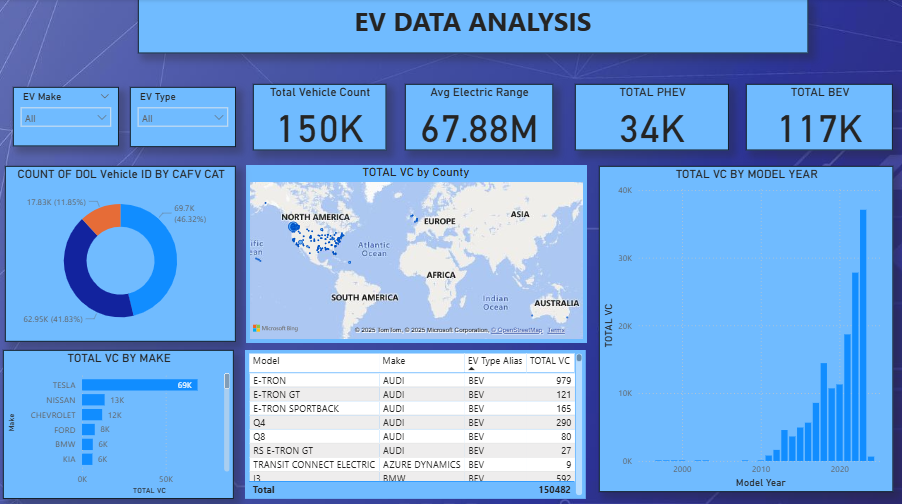

Layout of this report page (visuals, bound fields, positions):
{"tool":"powerbi","page":{"name":"DASHBOARD","canvas":[1280,720],"ordinal":0},"visuals":[{"type":"textbox","box":[198.4,0,949.6,76.5],"z":0},{"type":"card","title":"Total Vehicle Count","fields":{"Values":["Key Measure.TOTAL VC"]},"box":[361.4,120.5,188.5,93.5],"z":1000},{"type":"card","title":"Avg Electric Range","fields":{"Values":["Key Measure.AVG ELECTRIC VEHICLE"]},"box":[576.9,120.5,209.8,93.5],"z":2000},{"type":"map","fields":{"Category":["EV.County"],"Size":["Key Measure.TOTAL VC"]},"box":[351.5,235.3,481.9,250.9],"z":3000},{"type":"slicer","fields":{"Values":["EV.Make"]},"box":[21.3,124.7,150.2,83.6],"z":4000},{"type":"slicer","fields":{"Values":["EV.EV Type Alias"]},"box":[187.1,124.7,150.2,85],"z":5000},{"type":"card","title":"TOTAL PHEV","fields":{"Values":["Key Measure.Total Phev"]},"box":[817.8,120.5,218.3,93.5],"z":6000},{"type":"card","title":"TOTAL BEV","fields":{"Values":["Key Measure.Total BEV"]},"box":[1060.2,120.5,208.3,93.5],"z":7000},{"type":"donutChart","title":"COUNT OF DOL Vehicle ID BY CAFV CAT","fields":{"Category":["EV.CAFV Cat"],"Y":["CountNonNull(EV.DOL Vehicle ID)"]},"box":[9.9,236.7,327.4,249.4],"z":8000},{"type":"barChart","title":"TOTAL VC BY MAKE","fields":{"Category":["EV.Make"],"Y":["Key Measure.TOTAL VC"]},"box":[7.1,497.5,327.4,211.2],"z":9000},{"type":"clusteredColumnChart","title":"TOTAL VC BY MODEL YEAR","fields":{"Category":["EV.Model Year"],"Y":["Key Measure.TOTAL VC"]},"box":[851.8,236.7,416.7,462],"z":10000},{"type":"tableEx","fields":{"Values":["EV.Model","EV.Make","EV.EV Type Alias","Key Measure.TOTAL VC"]},"box":[350.1,497.5,483.3,211.2],"z":11000}]}

Visuals, with their boxes in screenshot pixels (x1, y1, x2, y2), scaled from the page's 1280x720 canvas onto the 902x504 screenshot:
textbox: 140, 0, 809, 54
"Total Vehicle Count" card: 255, 84, 388, 150
"Avg Electric Range" card: 407, 84, 554, 150
map - EV.County x Key Measure.TOTAL VC: 248, 165, 587, 340
slicer - EV.Make: 15, 87, 121, 146
slicer - EV.EV Type Alias: 132, 87, 238, 147
"TOTAL PHEV" card: 576, 84, 730, 150
"TOTAL BEV" card: 747, 84, 894, 150
"COUNT OF DOL Vehicle ID BY CAFV CAT" donutChart: 7, 166, 238, 340
"TOTAL VC BY MAKE" barChart: 5, 348, 236, 496
"TOTAL VC BY MODEL YEAR" clusteredColumnChart: 600, 166, 894, 489
tableEx - EV.Model x EV.Make: 247, 348, 587, 496
